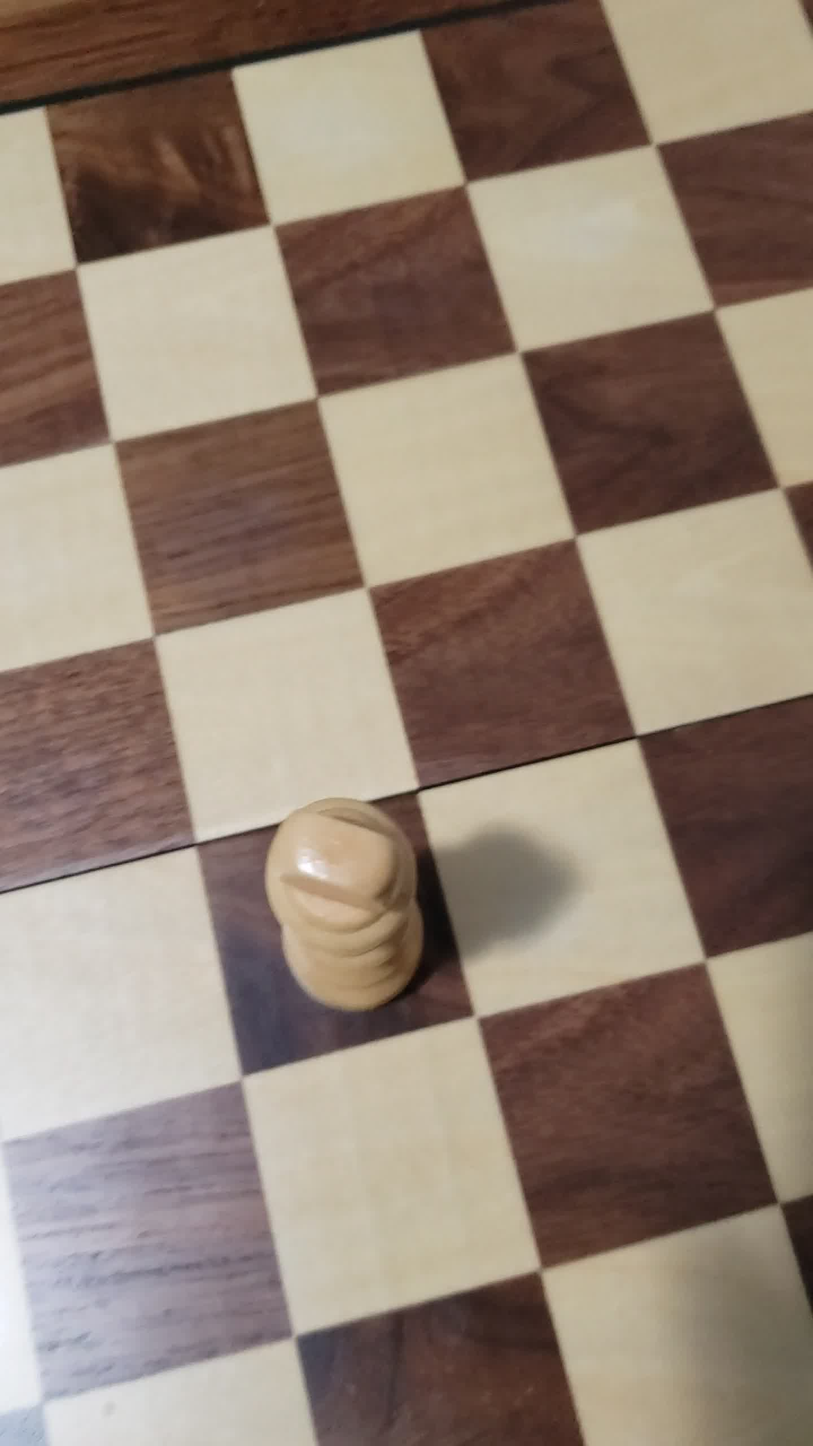white-king: (234, 780, 442, 1044)
